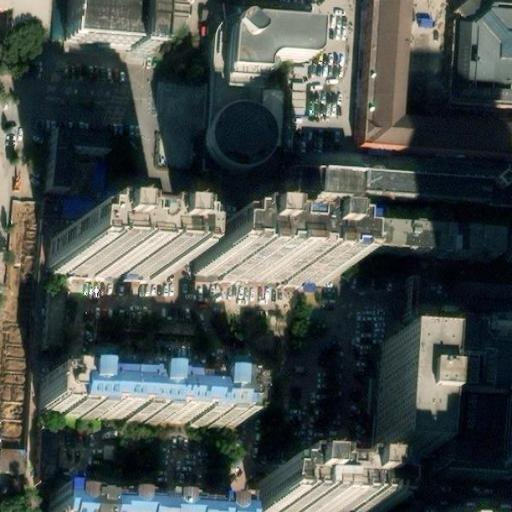building: (42, 384, 244, 434), (204, 76, 282, 204), (309, 162, 512, 203), (353, 214, 512, 260), (199, 235, 334, 288), (50, 227, 169, 279), (373, 340, 427, 452), (228, 21, 323, 79), (476, 320, 512, 468), (76, 0, 188, 38), (259, 473, 366, 512), (48, 494, 238, 512), (0, 0, 53, 42), (491, 381, 512, 469)
